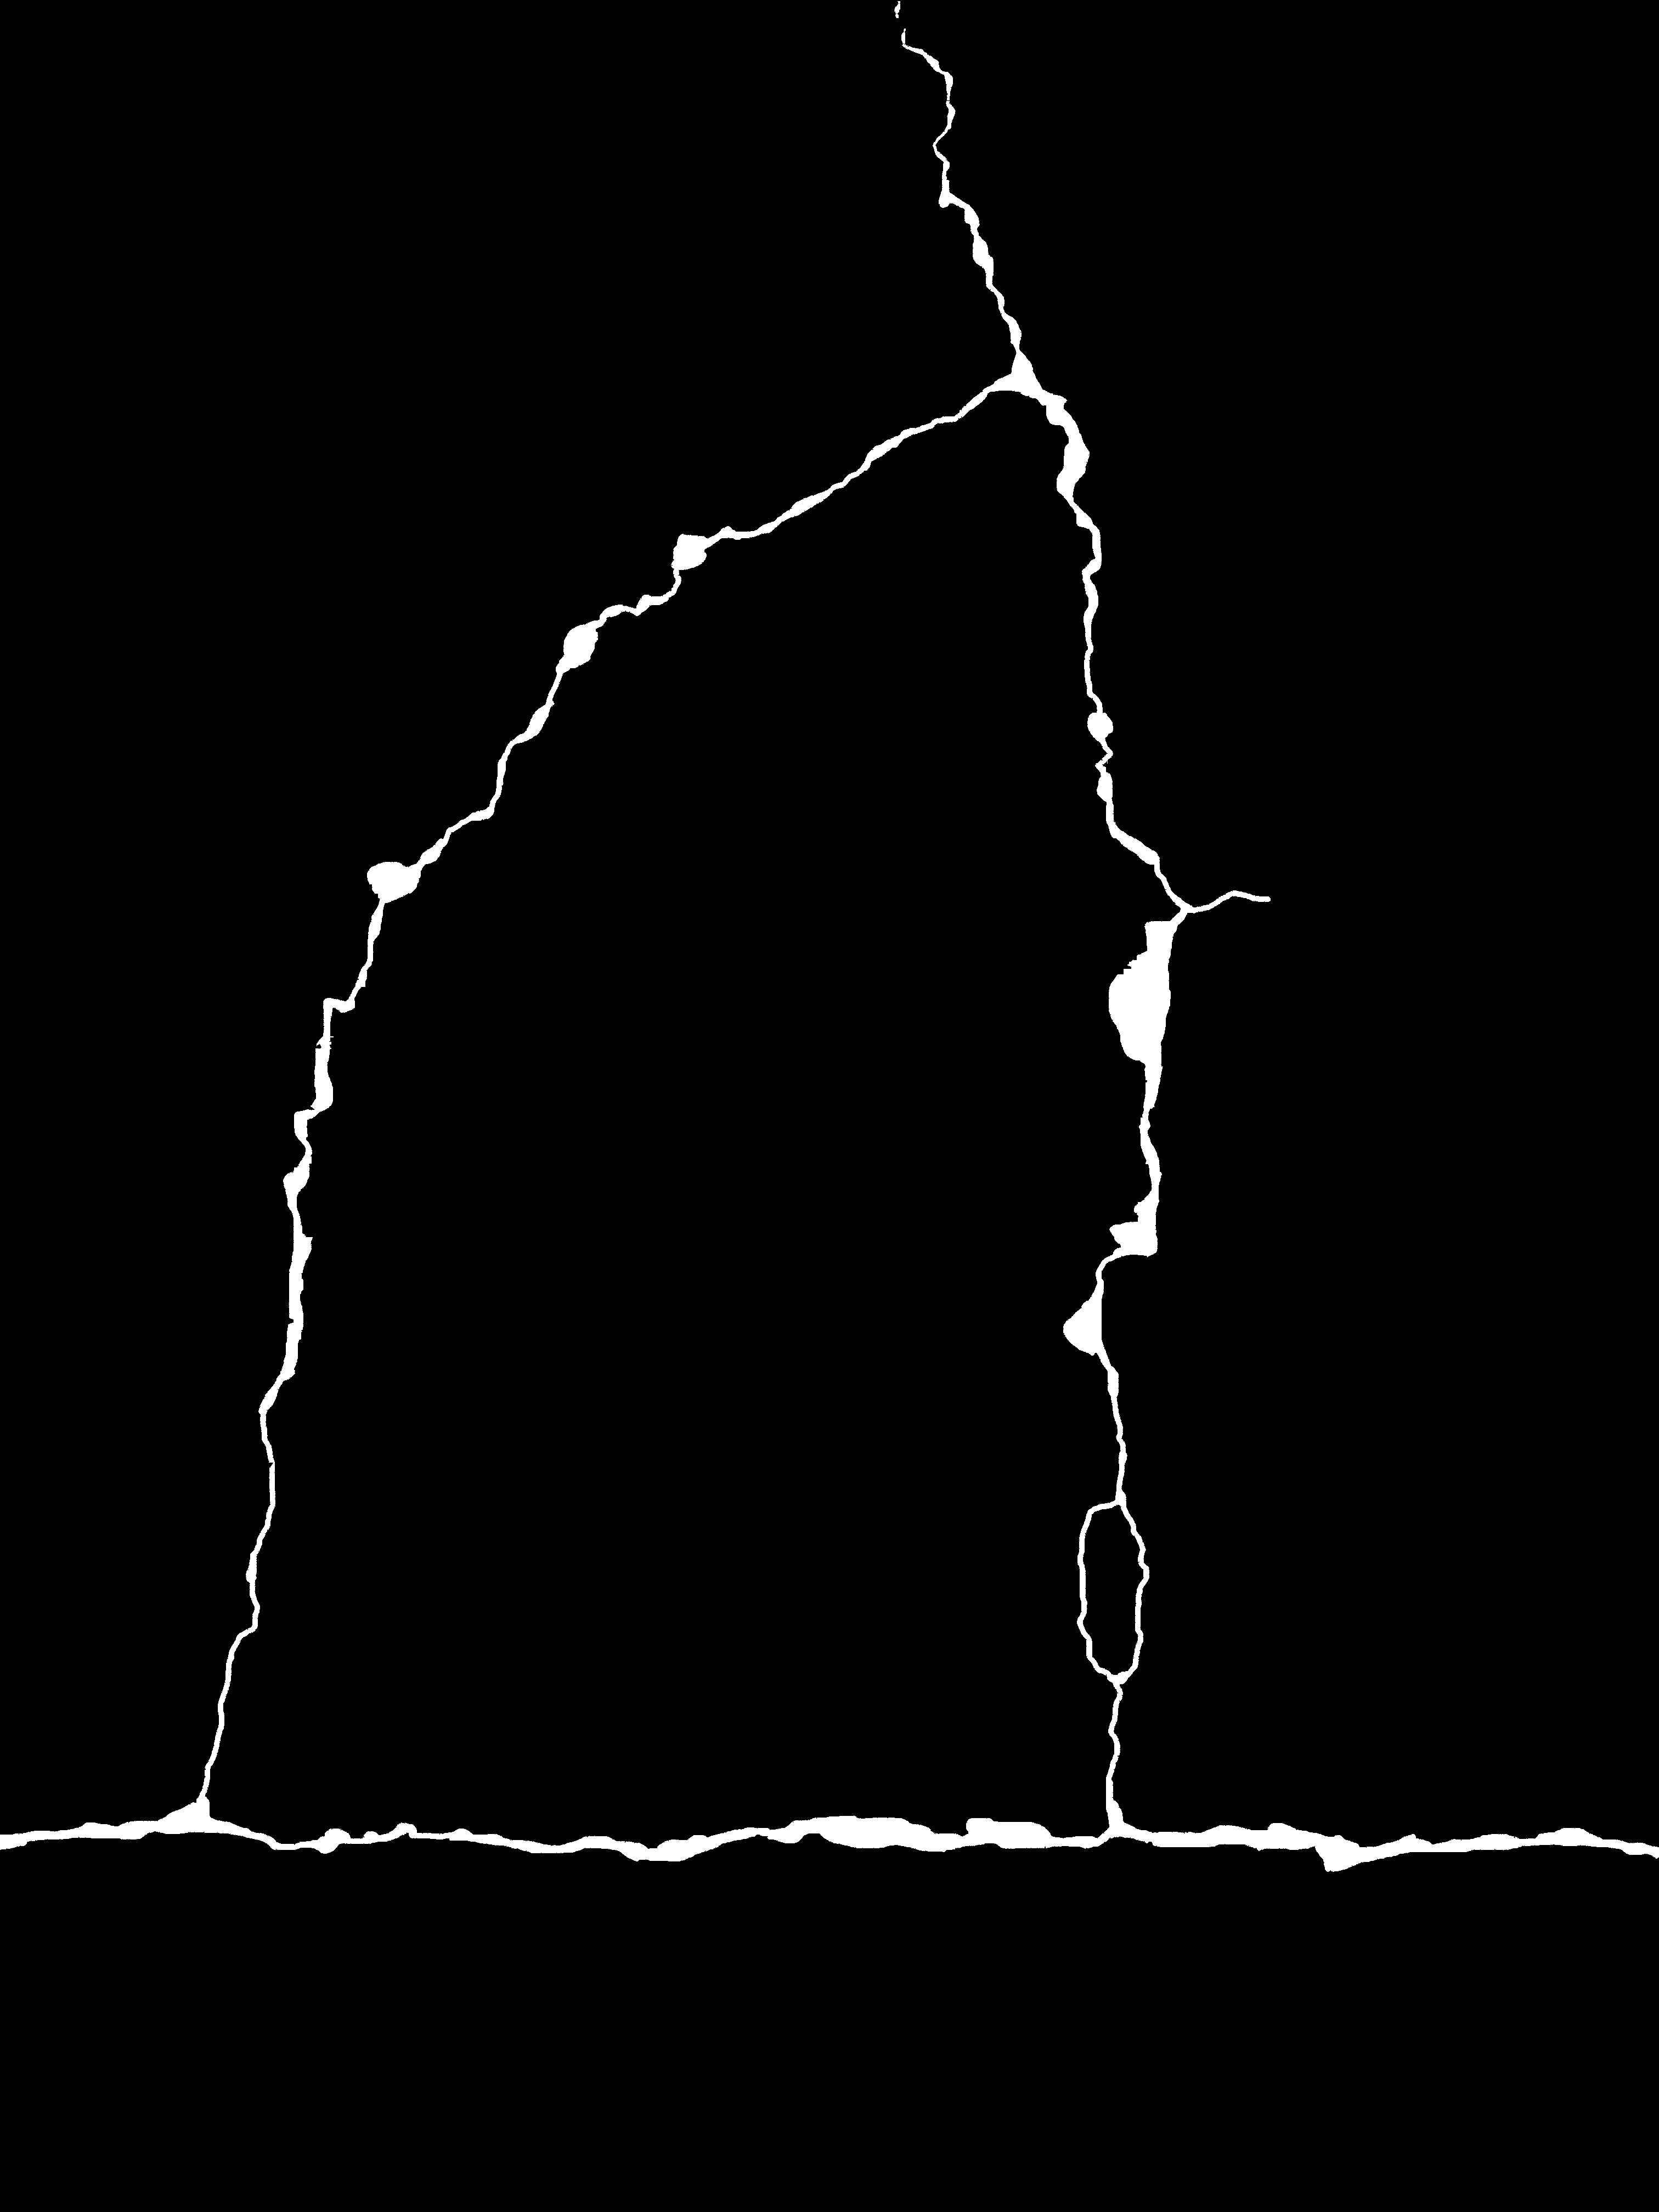Crack: (0, 0, 1659, 1869)
